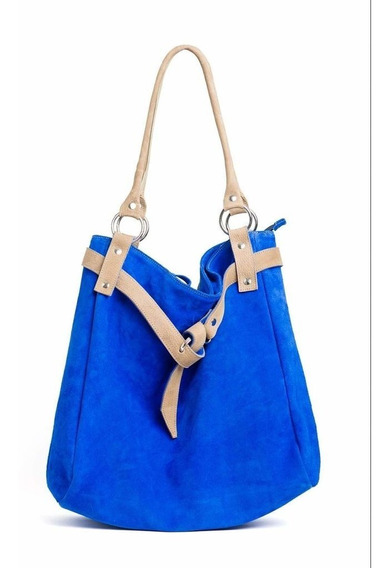cartera: (44, 44, 322, 531)
